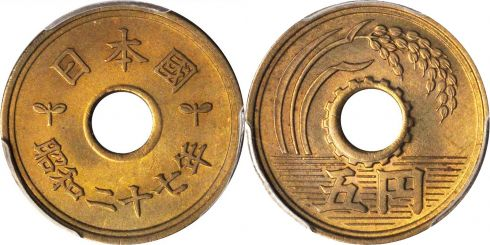5head: (246, 1, 490, 245)
5tail: (1, 2, 244, 245)
